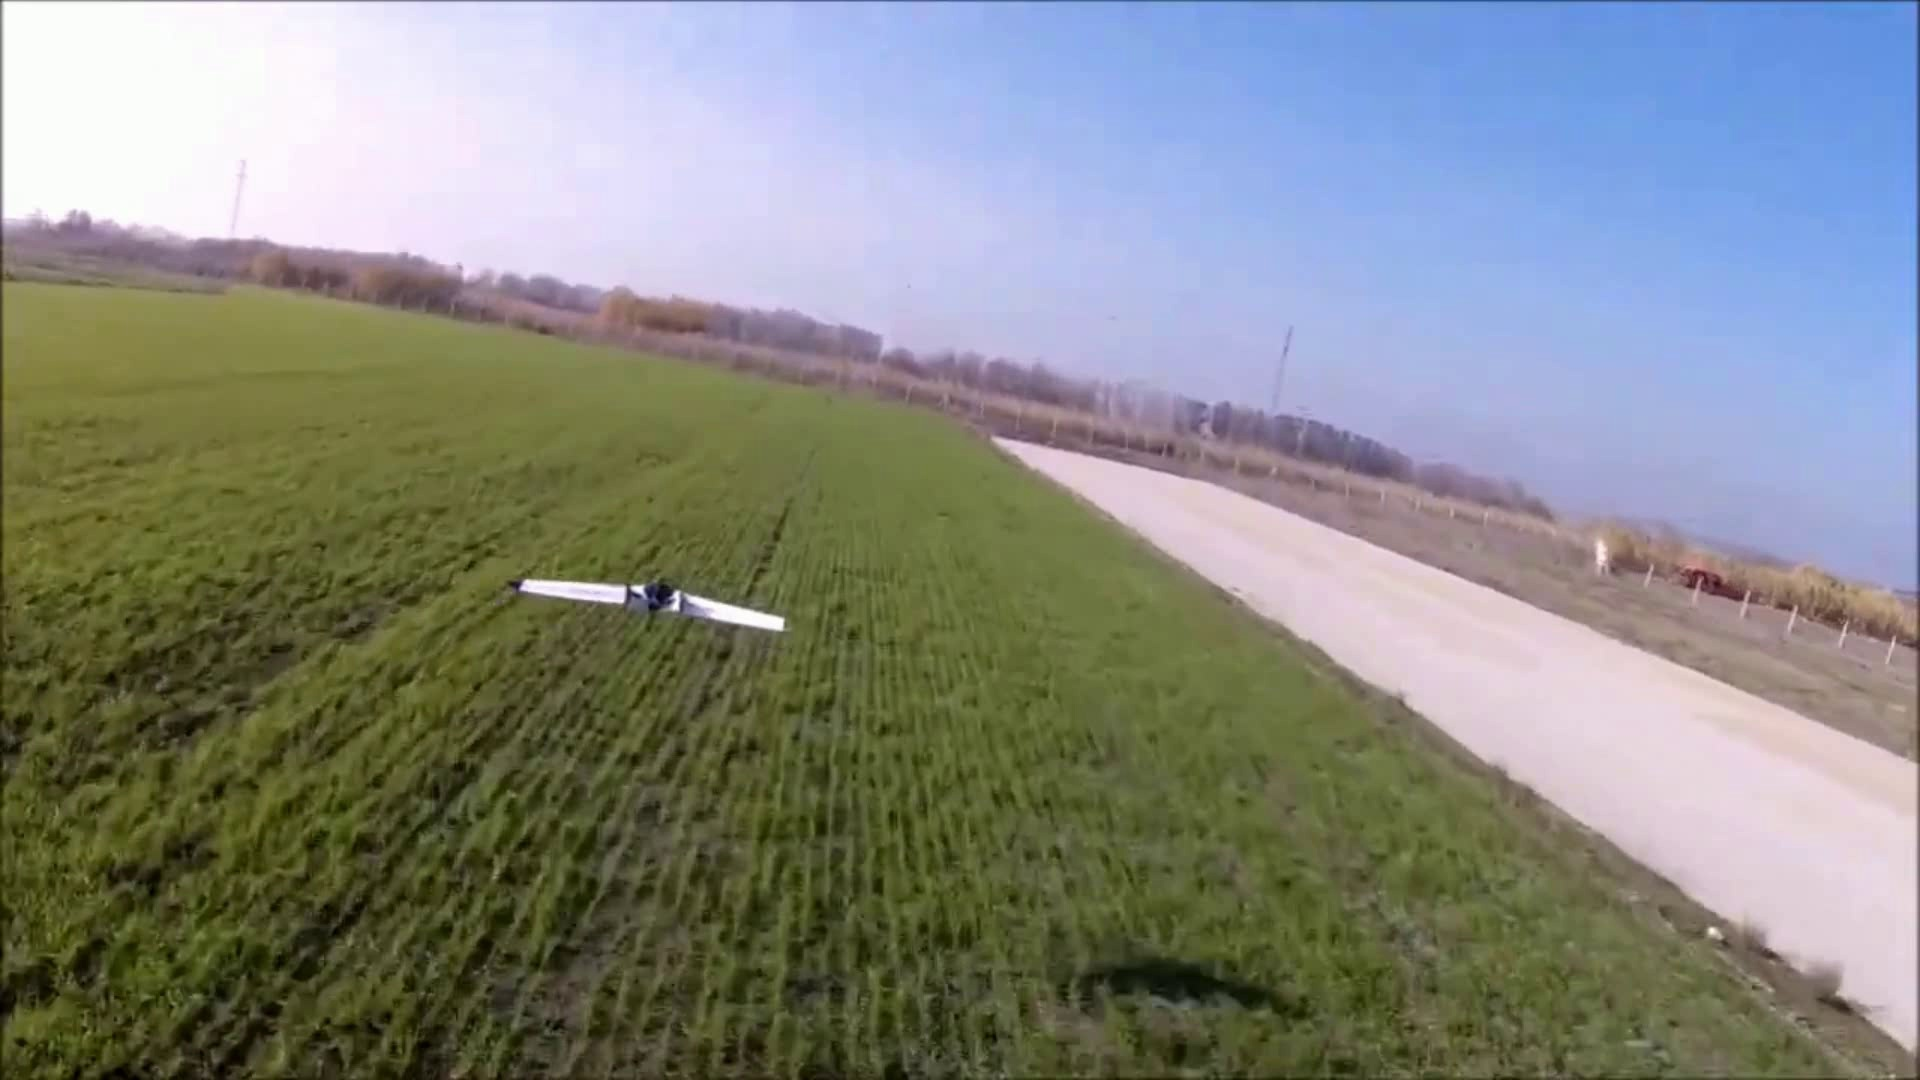airplane: (509, 575, 786, 640)
